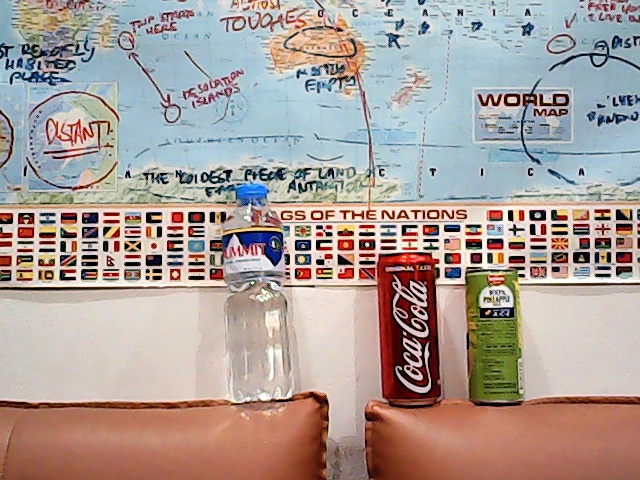Cola: (370, 246, 449, 413)
Pine Juice: (459, 261, 534, 413)
Summit Water: (221, 182, 297, 402)
